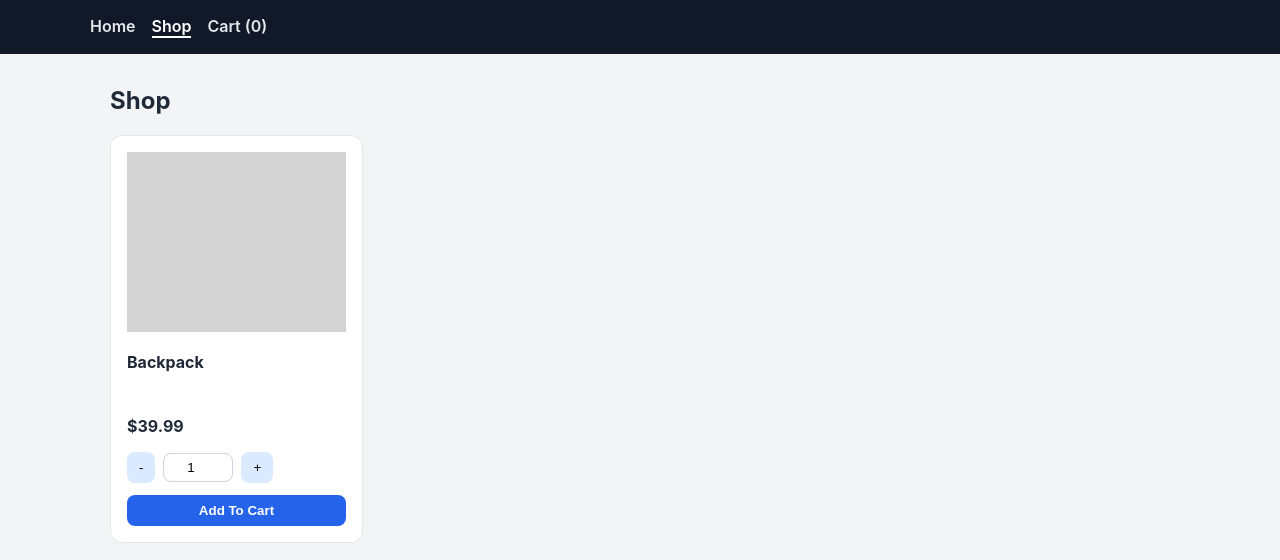
Scenario: App › updates cart count in real time and supports cart quantity changes
Check: the heading "Shop" is shown, box top-left (110, 86), bottom-right (170, 115)
Check: the heading "Backpack" is shown, box top-left (127, 352), bottom-right (204, 372)
Click the button named "increase quantity for backpack": {"x": 257, "y": 467} top-left (242, 452), bottom-right (273, 483)
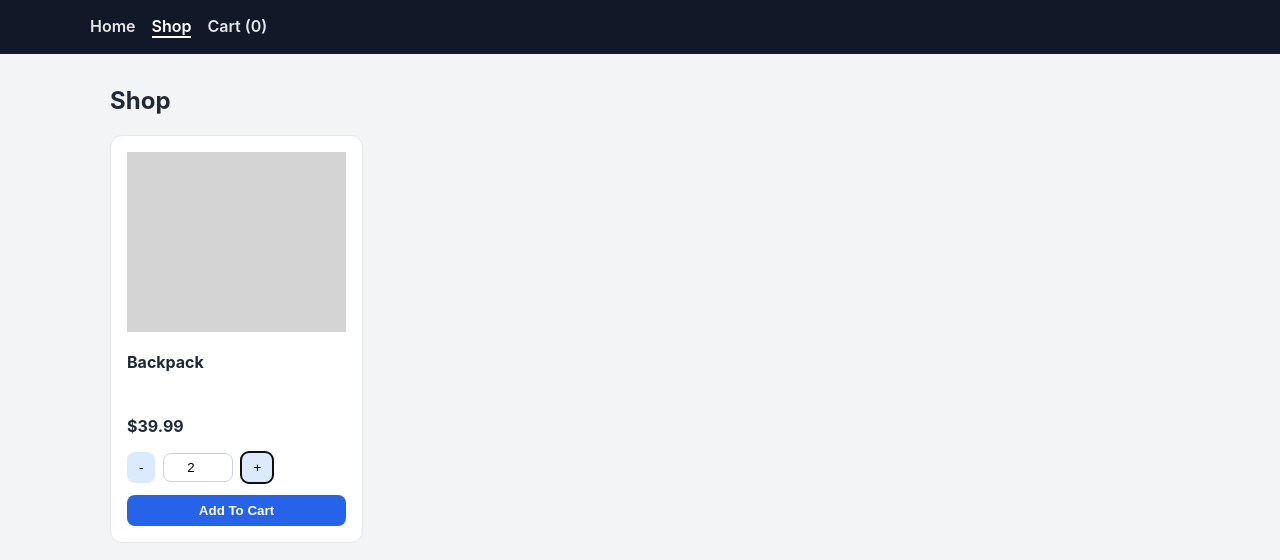
Click the button named "increase quantity for backpack": {"x": 257, "y": 467} top-left (242, 452), bottom-right (273, 483)
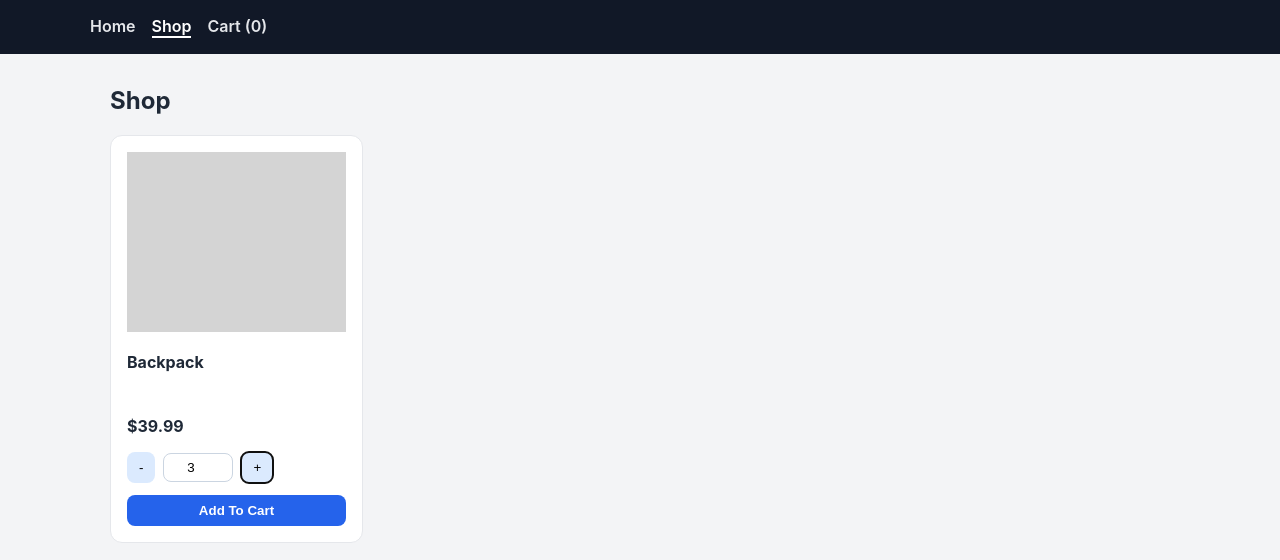
Click the button "Add To Cart": {"x": 236, "y": 510} top-left (127, 495), bottom-right (346, 526)
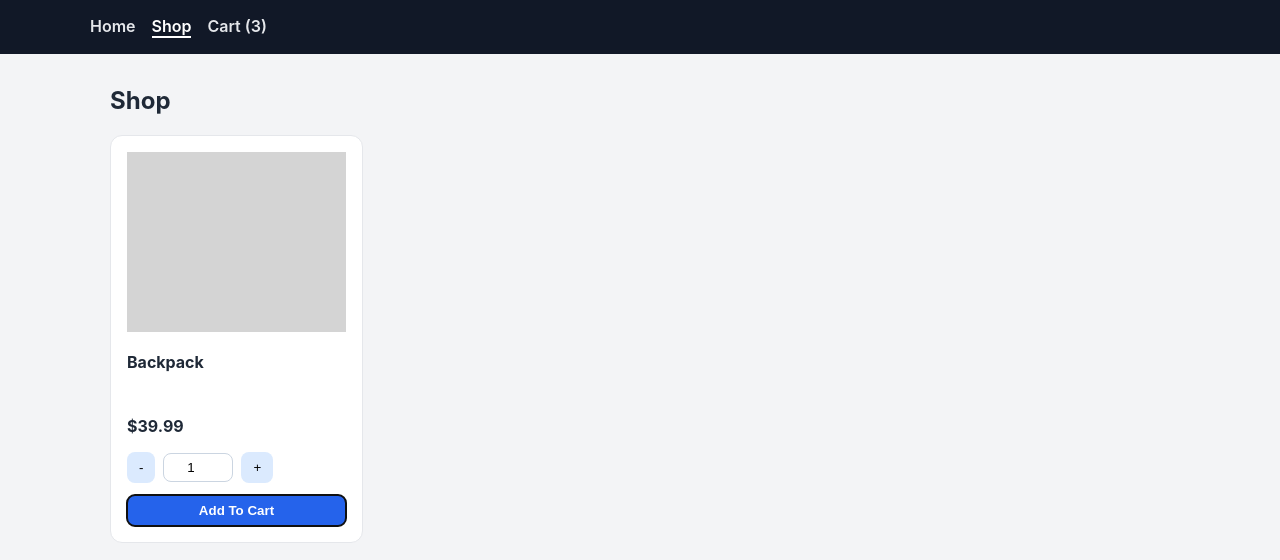
Check: the link "Cart (3)" is shown
Click the link "Cart (3)": {"x": 237, "y": 27} top-left (208, 16), bottom-right (267, 38)
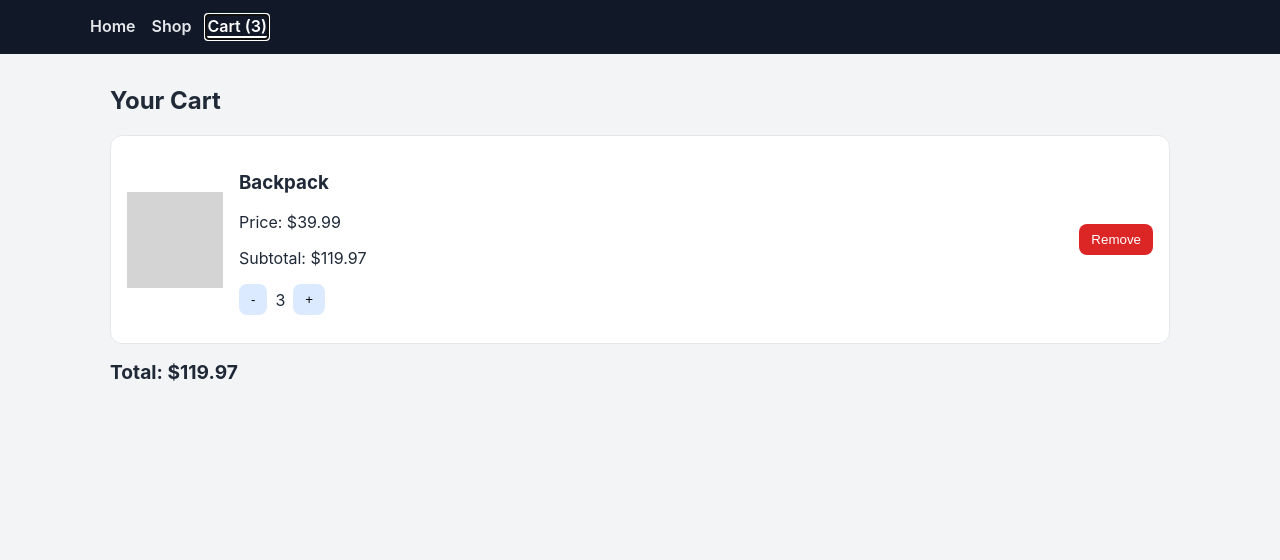
Check: the heading "Backpack" is shown, box top-left (239, 171), bottom-right (329, 194)
Check: the heading "Your Cart" is shown, box top-left (110, 86), bottom-right (221, 115)
Click the button named "increase backpack in cart": {"x": 309, "y": 300} top-left (293, 284), bottom-right (325, 315)
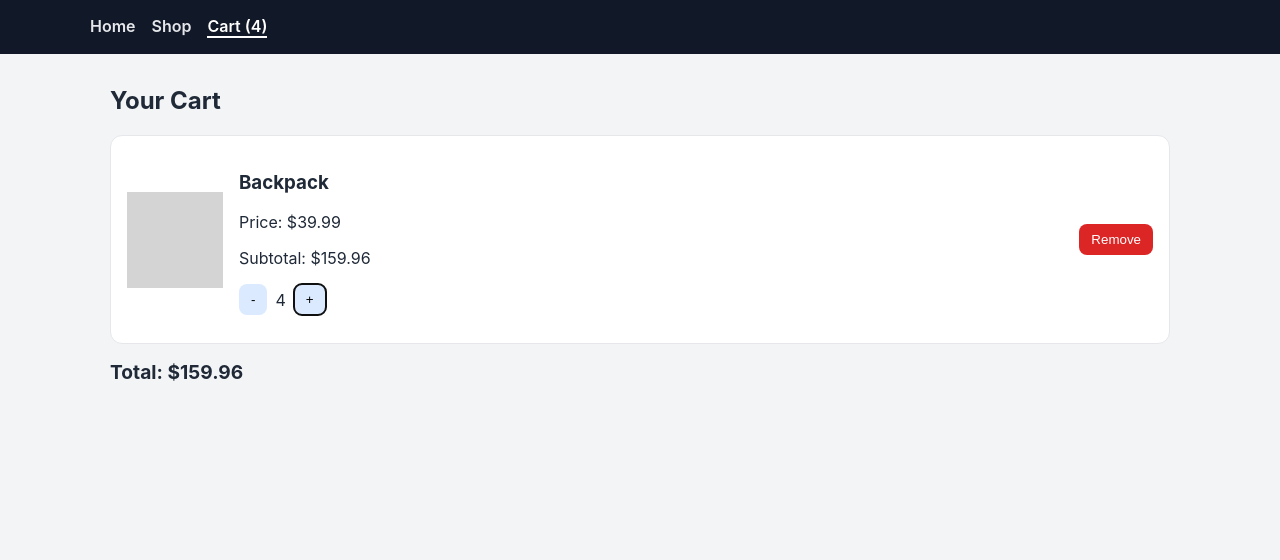
Check: the link "Cart (4)" is shown, box top-left (208, 16), bottom-right (267, 38)
Click the button "Remove": {"x": 1116, "y": 240} top-left (1079, 224), bottom-right (1153, 255)
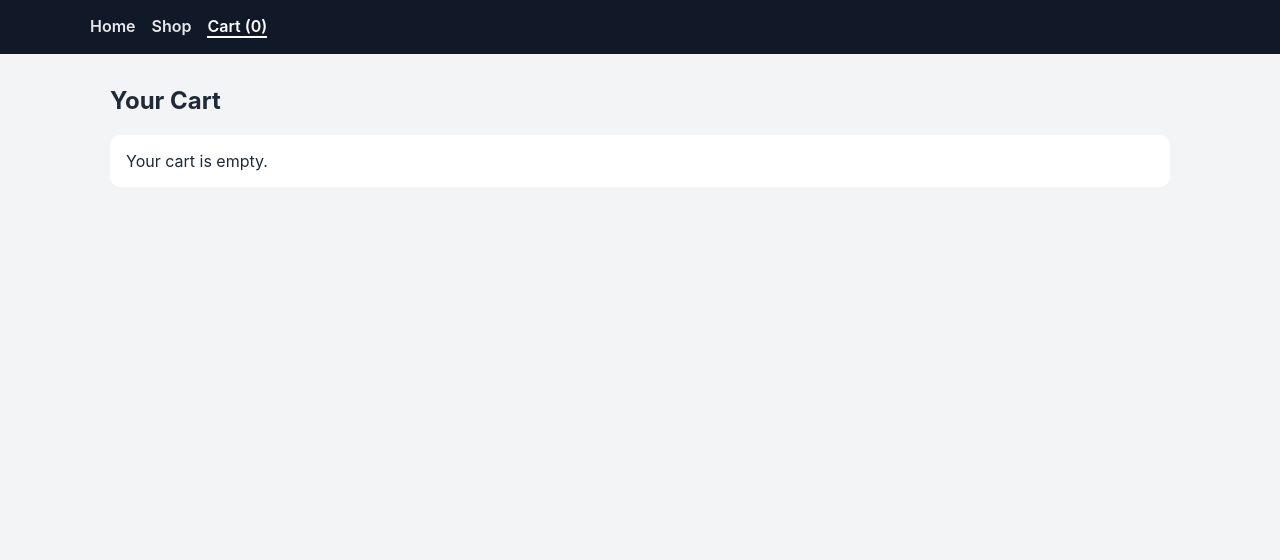
Check: the link "Cart (0)" is shown, box top-left (208, 16), bottom-right (267, 38)
Check: the text "Your cart is empty." is shown, box top-left (110, 135), bottom-right (1170, 187)
